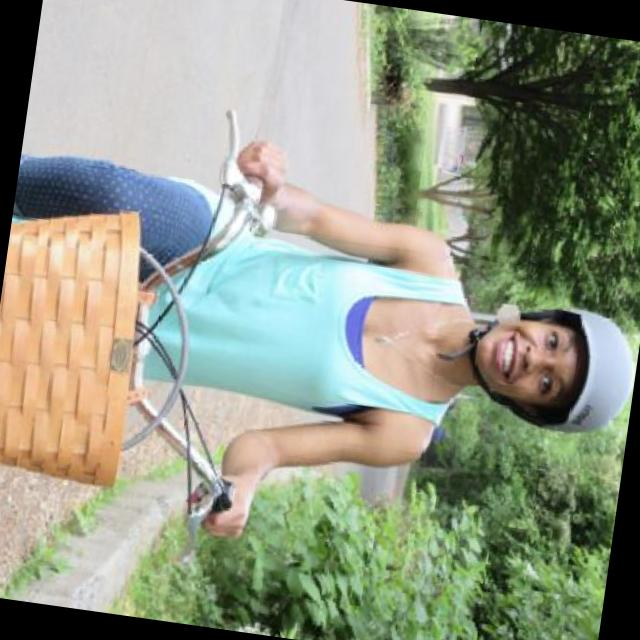With Helmet: (461, 290, 640, 445)
